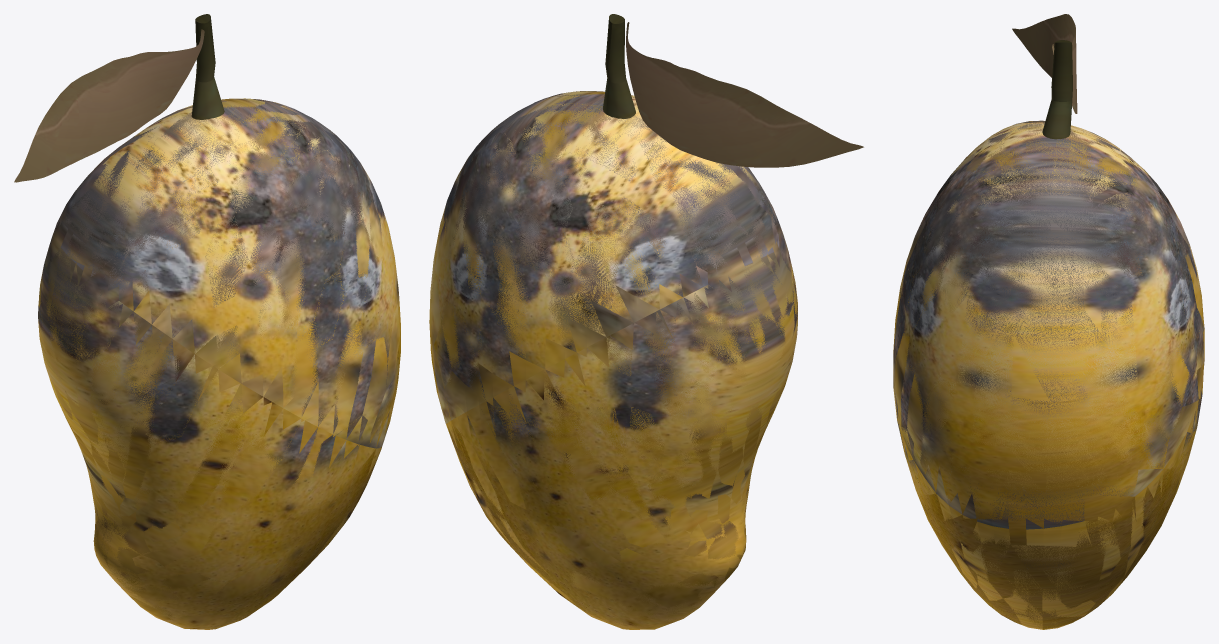
Rendered from posa amm.fbx.
3 views of the same model, side by side, from view 1: azimuth 30°, elevation 25°; view 2: azimuth 150°, elevation 25°; view 3: azimuth 270°, elevation 25° (orthographic). The views are drawn at different scales.
Visible parts, largest first — view 1: posa_mango1, posa_mango_cut_A, posa_mango_cut_B; view 2: posa_mango1, posa_mango_cut_A, posa_mango_cut_B; view 3: posa_mango1, posa_mango_cut_A, posa_mango_cut_B.
Part boxes in pixels (bbox=[...]): posa_mango1: bbox=[14, 14, 400, 629]; posa_mango_cut_A: bbox=[14, 14, 399, 448]; posa_mango_cut_B: bbox=[38, 237, 381, 629]; posa_mango1: bbox=[430, 14, 863, 629]; posa_mango_cut_A: bbox=[429, 14, 863, 423]; posa_mango_cut_B: bbox=[446, 250, 797, 629]; posa_mango1: bbox=[893, 14, 1204, 629]; posa_mango_cut_A: bbox=[893, 22, 1204, 529]; posa_mango_cut_B: bbox=[895, 354, 1204, 629].
Size of the model in its own units: 896 by 1326 by 637.
